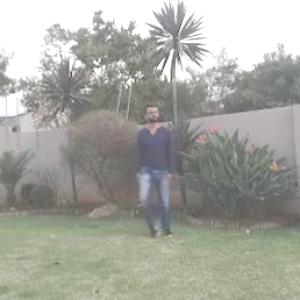follow: (136, 100, 177, 238)
